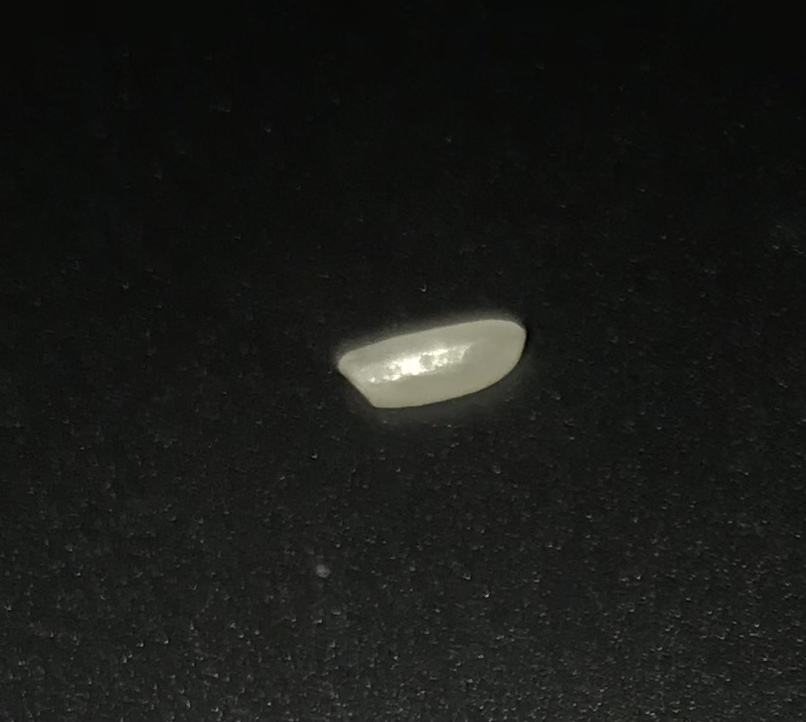Gao Thom My: (322, 309, 546, 420)
